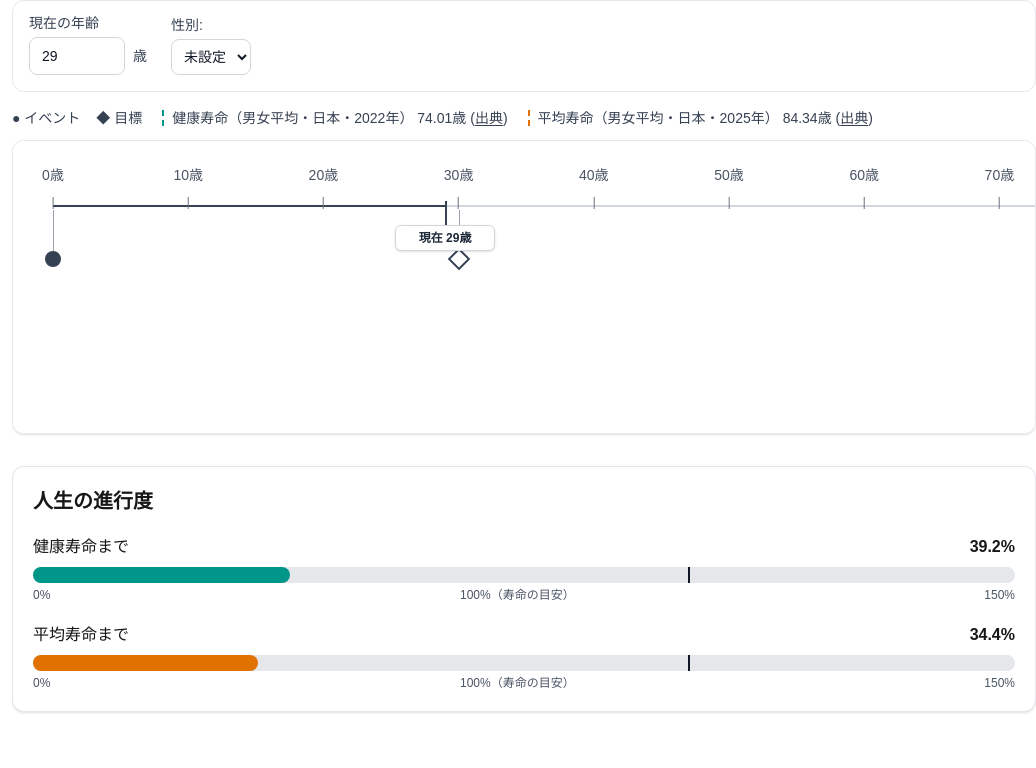
Test: Timeline › 項目を選択すると説明を表示し、再度選択すると閉じる
Click the button named "誕生".
click(53, 259)  # box [37,243,69,275]
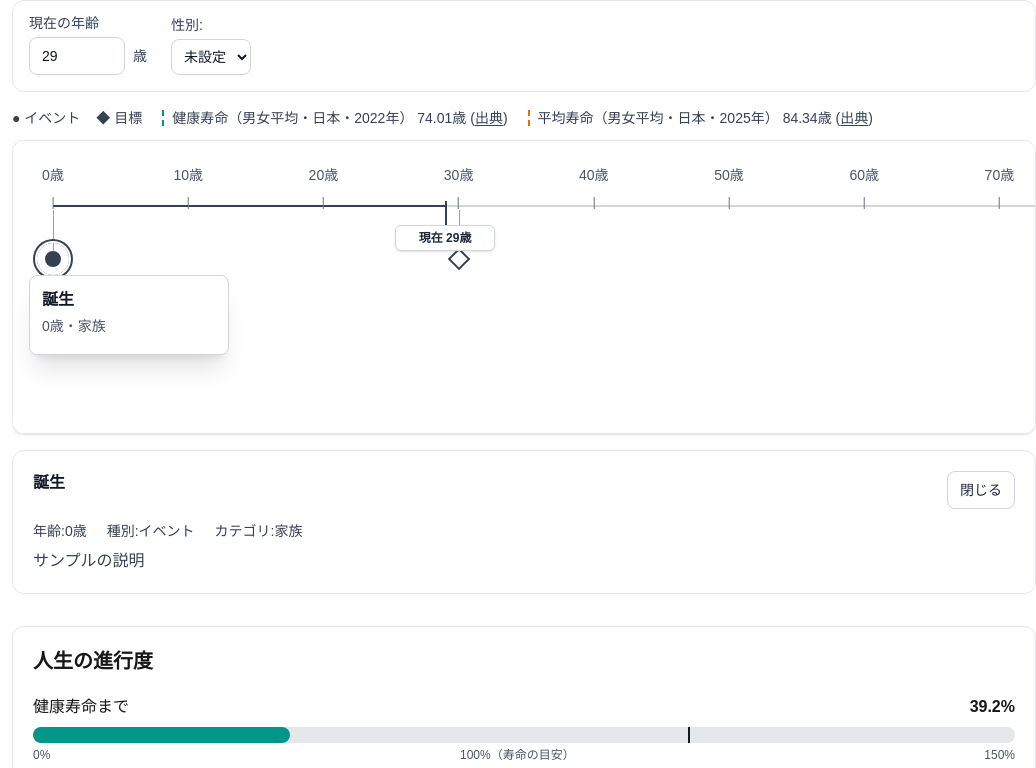
Expected: the text "サンプルの説明" is shown, [33,552,144,569]
Expected: the heading "誕生" is shown, [33,471,65,495]
Expected: the text "年齢:" is shown, [33,523,65,539]
Click the button "閉じる".
click(981, 490)  # box [947,471,1015,509]
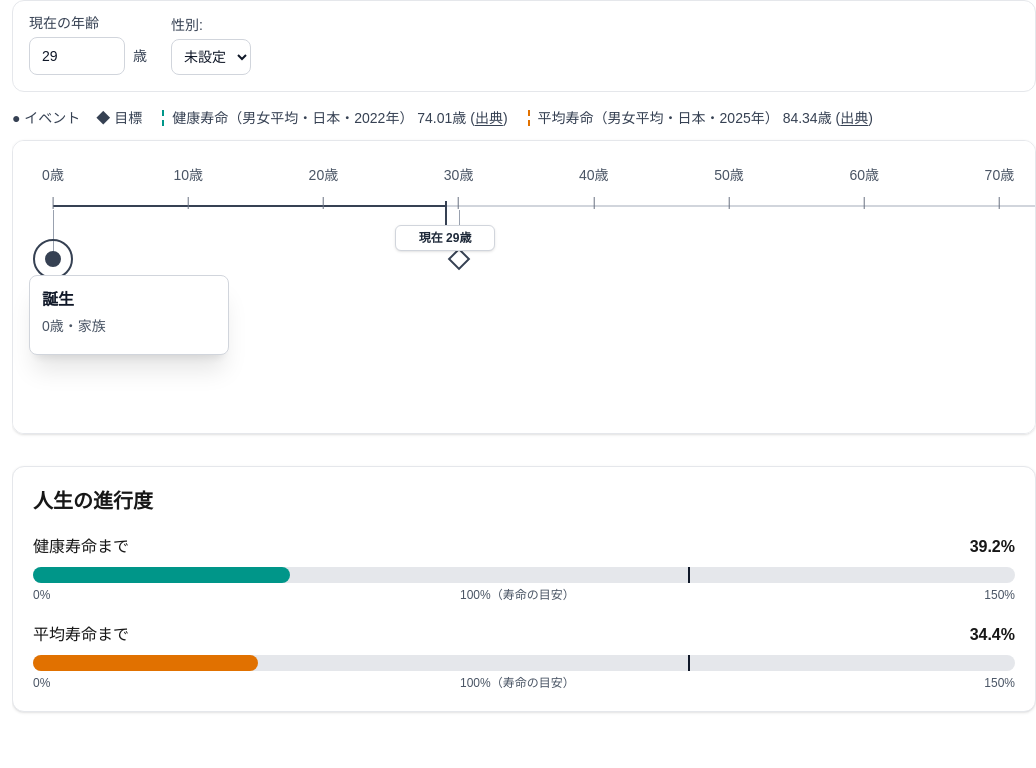
Expected: the text "サンプルの説明" is gone
Click the button named "誕生".
click(53, 259)  # box [37,243,69,275]
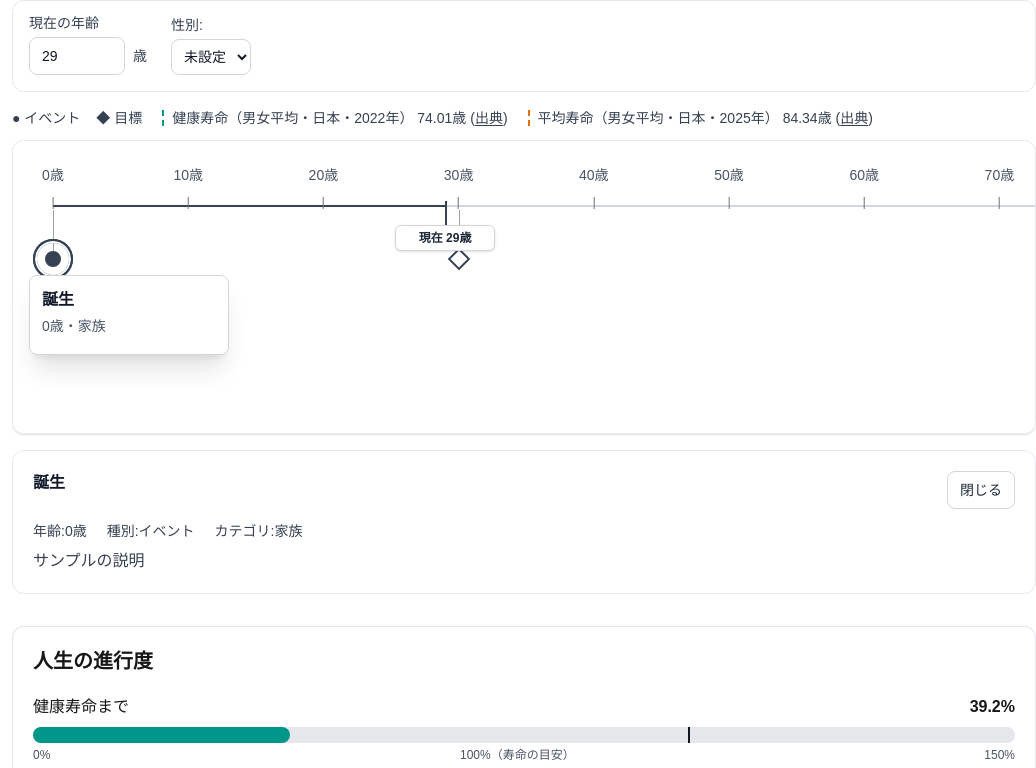
Click the button named "誕生".
click(53, 259)  # box [37,243,69,275]
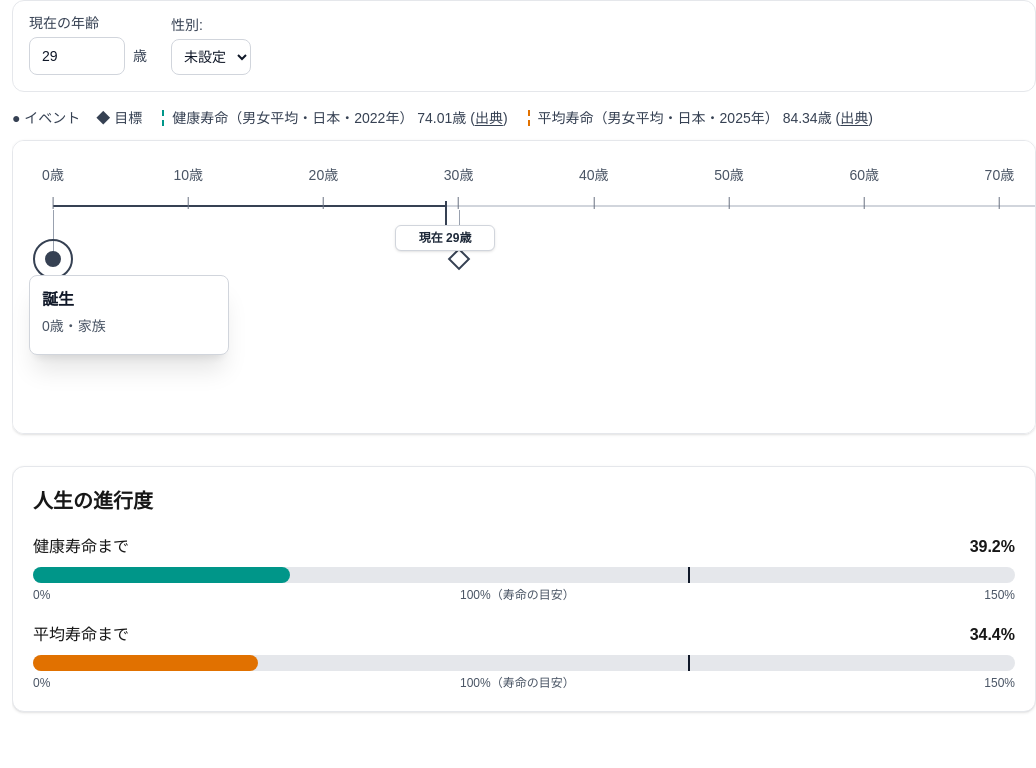
Expected: the text "サンプルの説明" is gone
